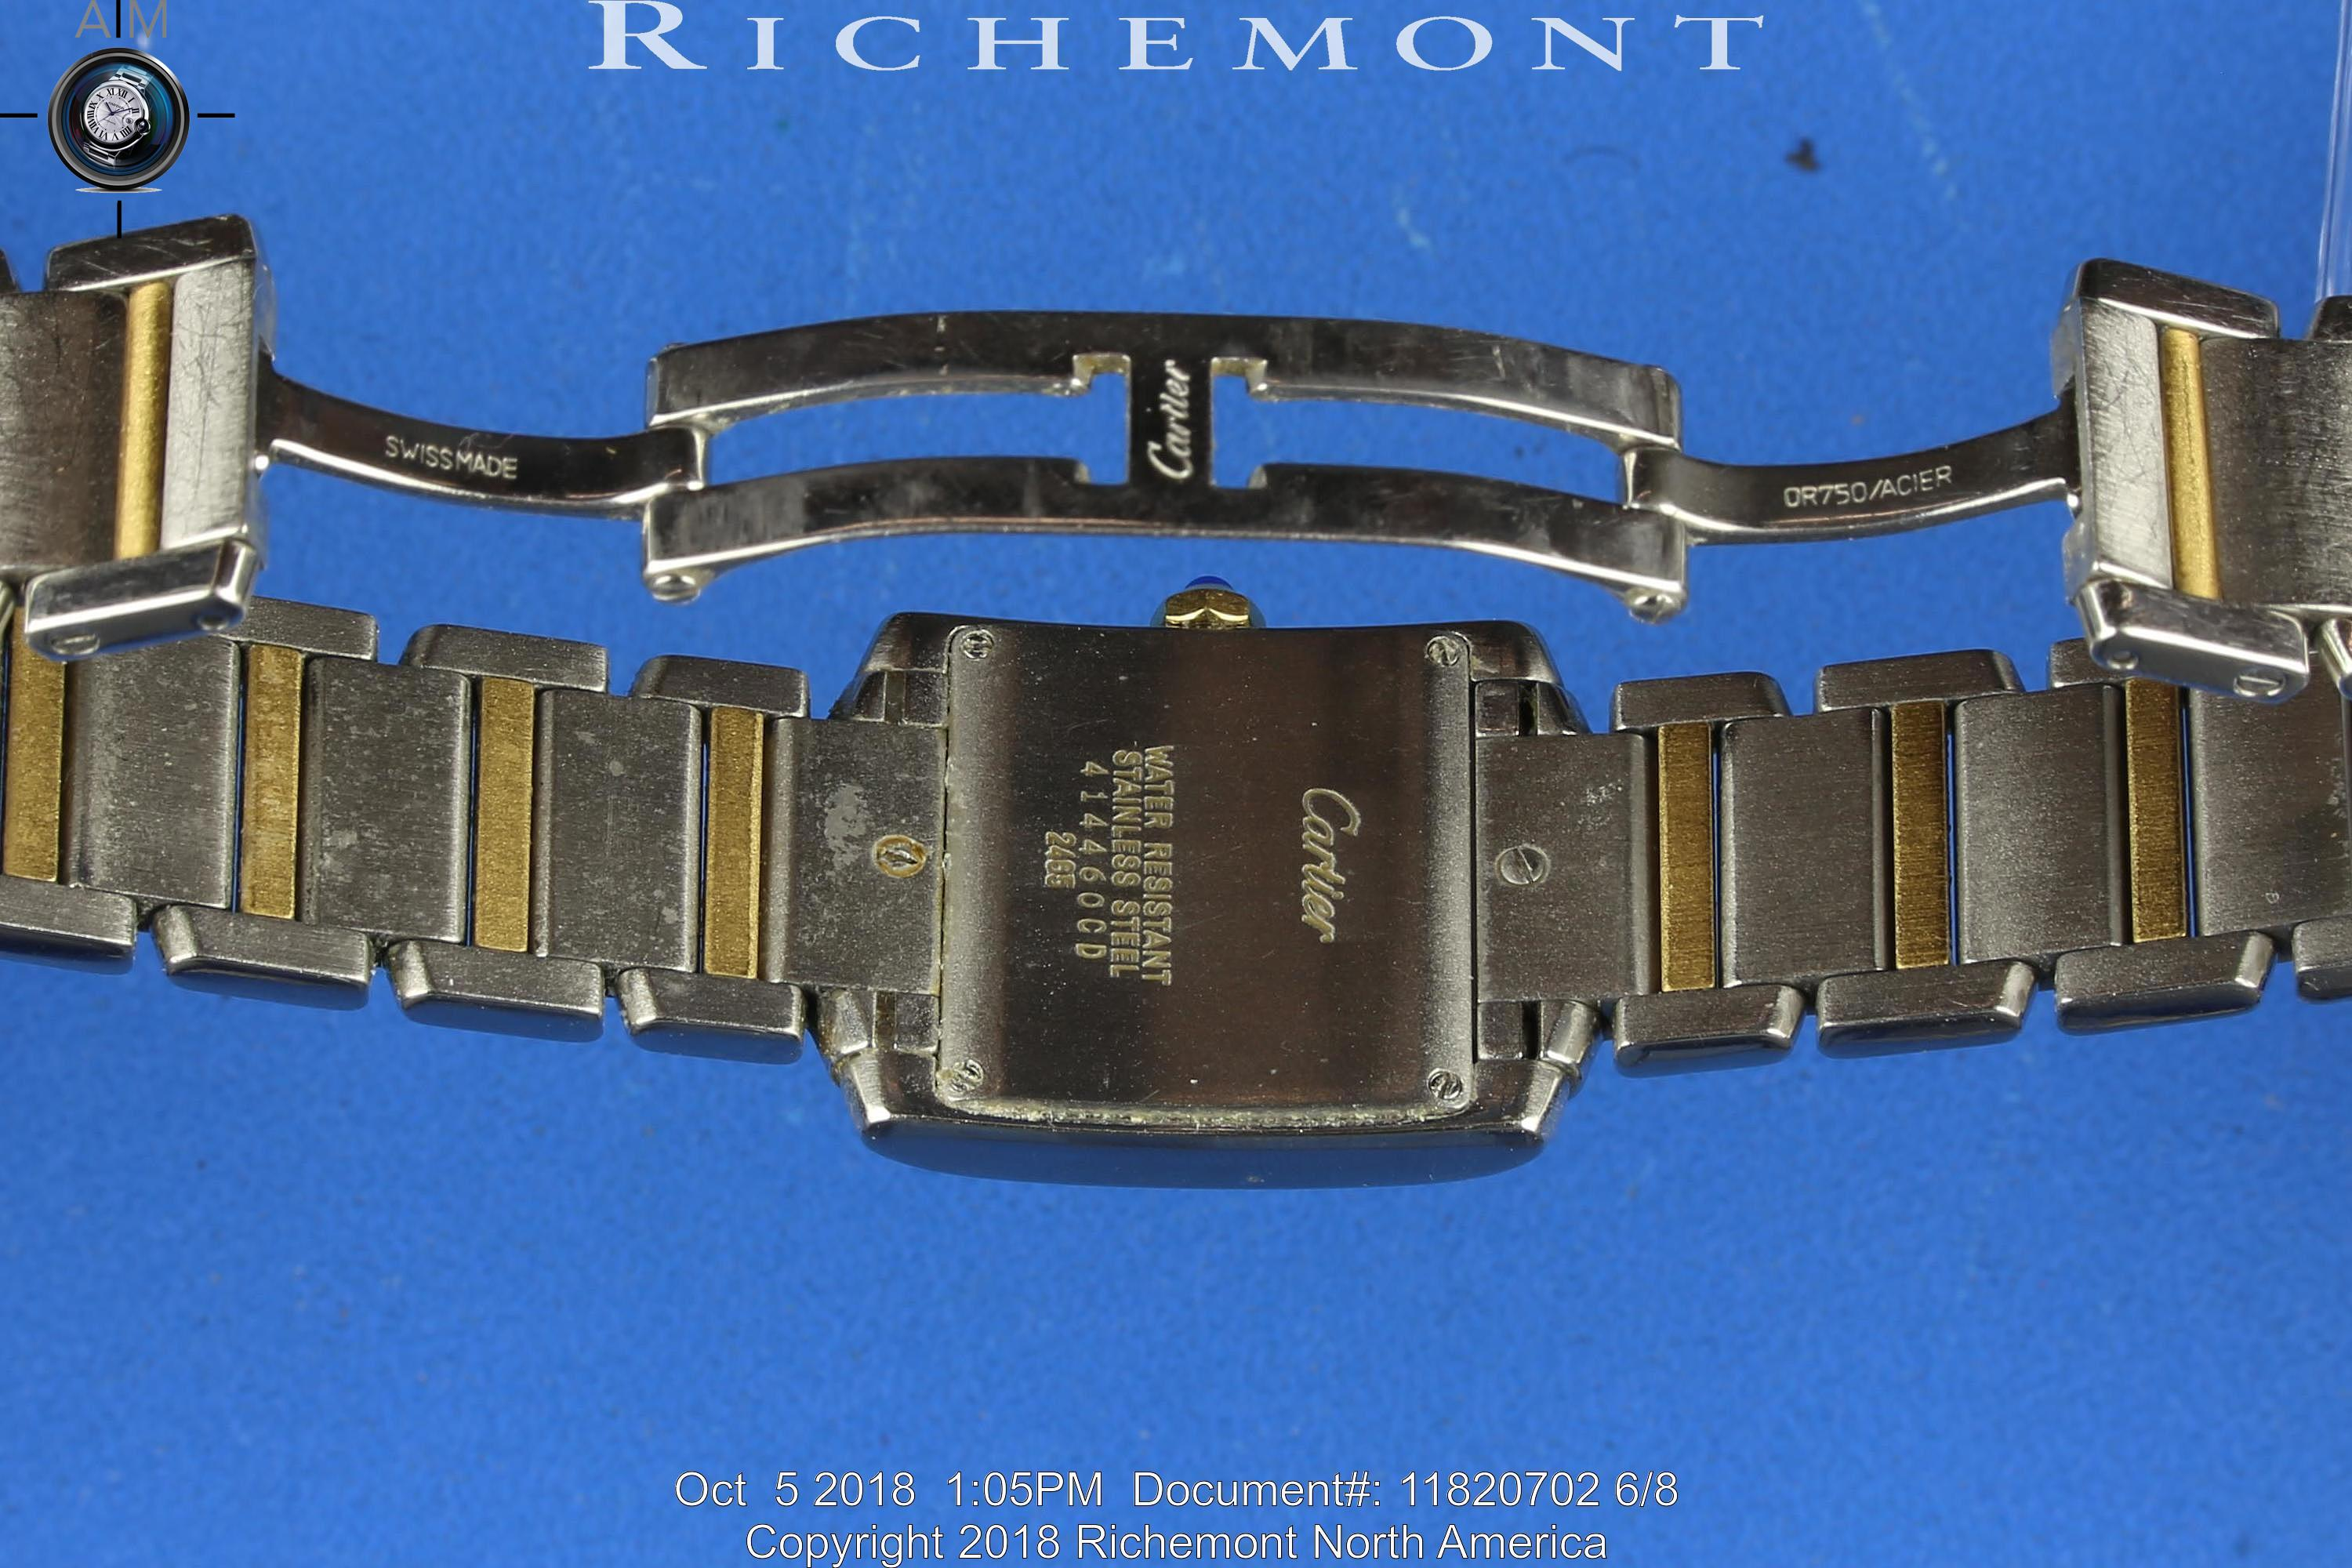watchback: (941, 632, 1479, 1125)
